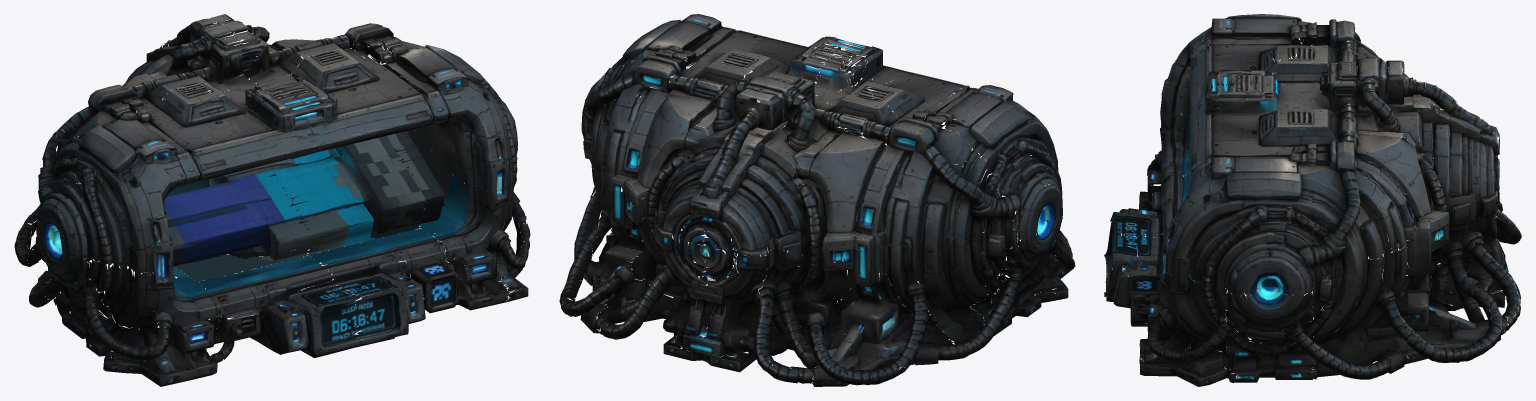
Rendered from herobrine_capsule_lod.gltf.
3 views of the same model, side by side, from view 1: azimuth 30°, elevation 25°; view 2: azimuth 150°, elevation 25°; view 3: azimuth 270°, elevation 25° (orthographic). The views are drawn at different scales.
Visible parts, largest first — view 1: herobrine_capsule_lod; view 2: herobrine_capsule_lod; view 3: herobrine_capsule_lod.
Part boxes in pixels (x1,y1,x2,y2): herobrine_capsule_lod: [14, 14, 530, 386]; herobrine_capsule_lod: [559, 14, 1075, 386]; herobrine_capsule_lod: [1104, 14, 1521, 386].
Size of the model in its own units: 1 by 0.4892 by 0.8268.
Materials: 1 (1 with a texture image).
